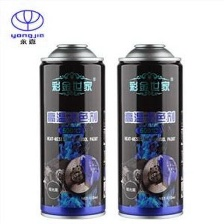aerosol_cans: (114, 40, 188, 221), (37, 39, 107, 220)
